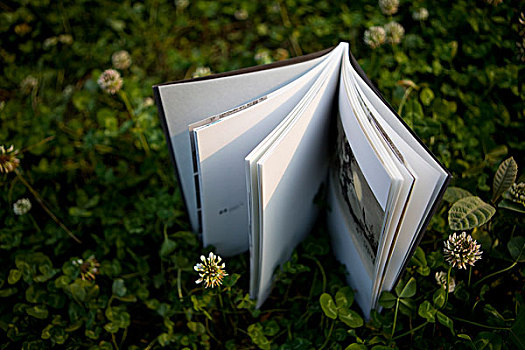book: (153, 40, 451, 321)
